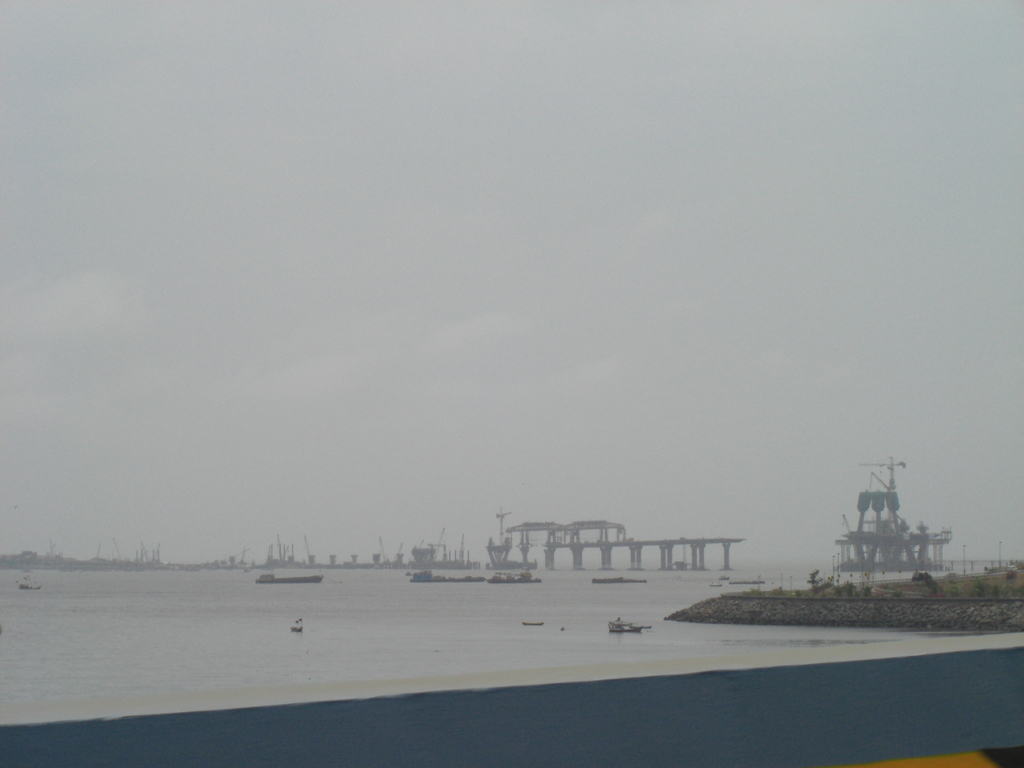boat: (243, 563, 340, 600), (399, 568, 488, 592), (488, 564, 552, 596)
